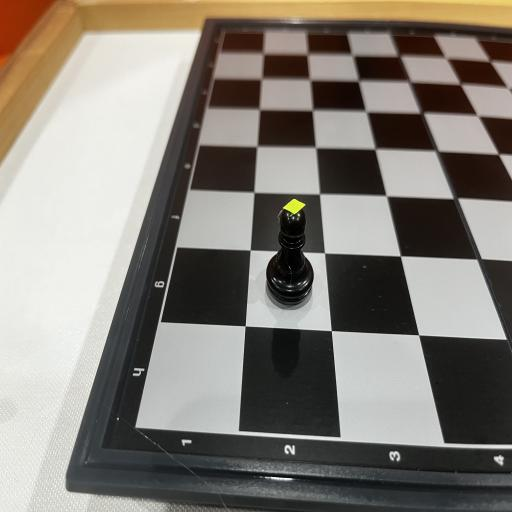Black pawn: (266, 198, 314, 306)
